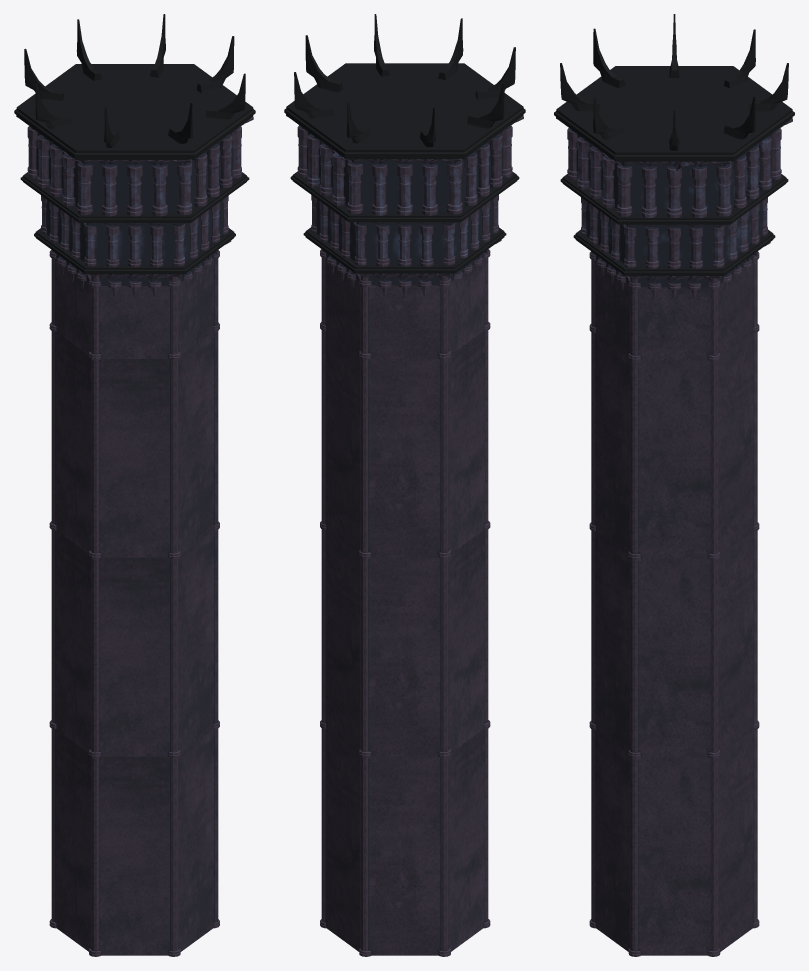
Rendered from Torre_1.fbx.
3 renders of one model, left to right at view 1: azimuth 30°, elevation 25°; view 2: azimuth 150°, elevation 25°; view 3: azimuth 270°, elevation 25°, orthographic.
Parts seen in each view (by area): view 1: TowerBody_low, TowerTop_low; view 2: TowerBody_low, TowerTop_low; view 3: TowerBody_low, TowerTop_low.
Boxes of the visible parts, box(x1,y1,x2,y2) form: TowerBody_low: box(49, 250, 219, 956); TowerTop_low: box(14, 14, 255, 296); TowerBody_low: box(320, 249, 490, 956); TowerTop_low: box(284, 14, 525, 295); TowerBody_low: box(589, 251, 759, 956); TowerTop_low: box(554, 14, 794, 298).
Size of the model in its own units: 2090 by 8701 by 2200.
